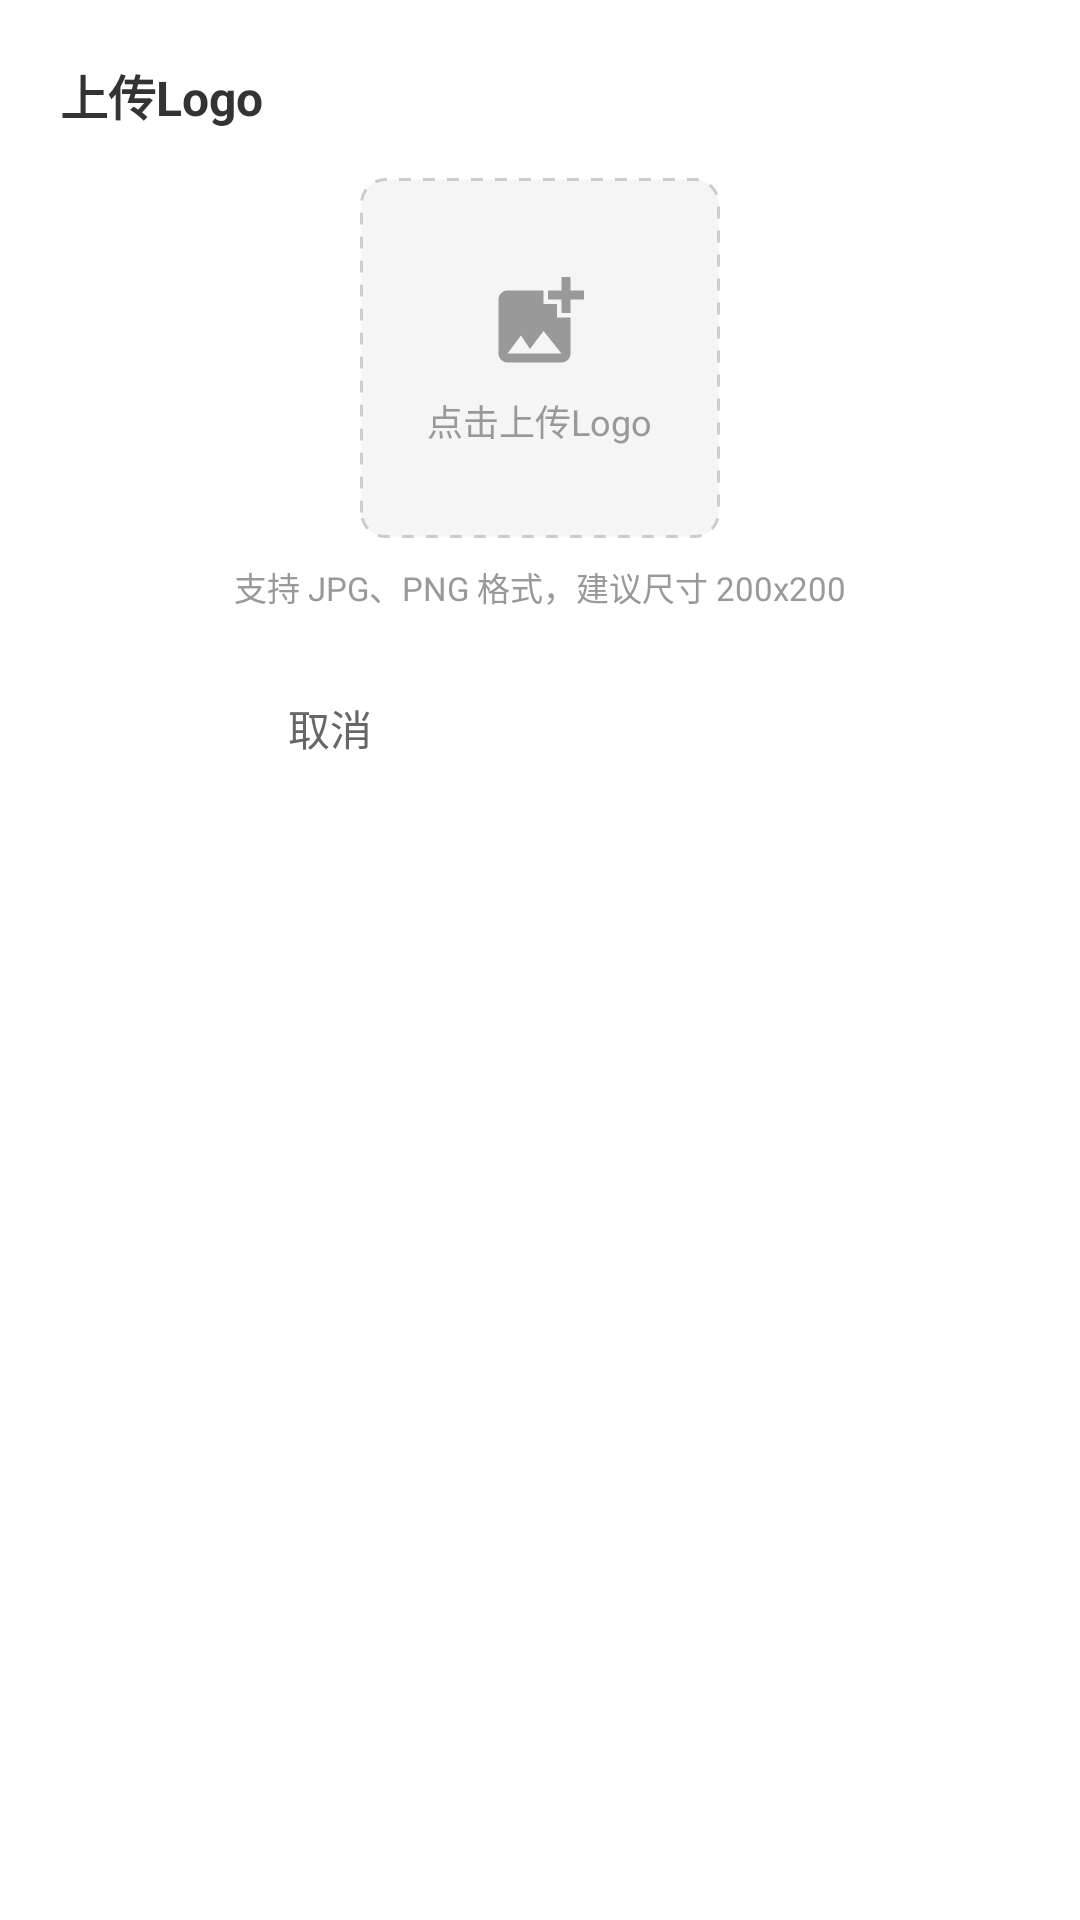

Icons on this 1080w x 1920h Android screen, each with its box as (x1, y1, x2, y2):
add photo: (498, 277, 584, 363)
